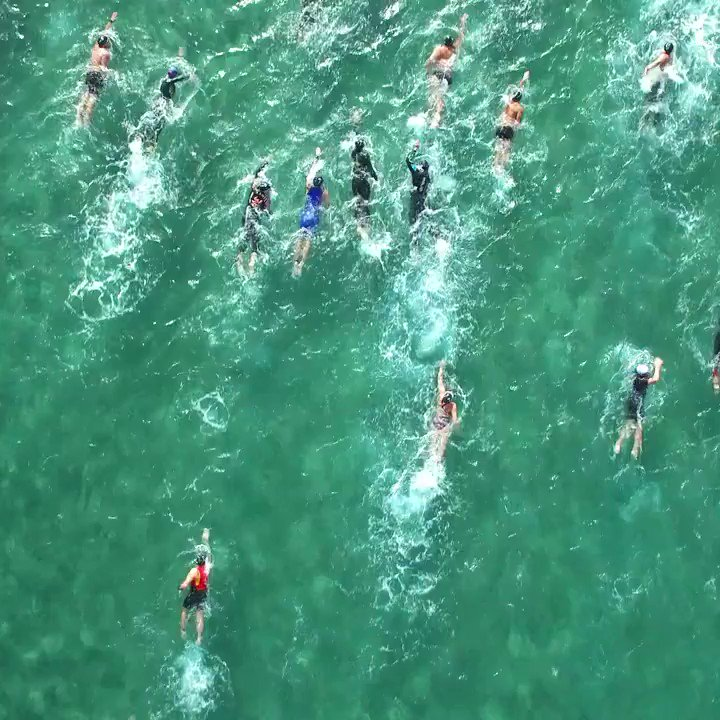people: (291, 156, 338, 276), (421, 28, 469, 131), (491, 73, 541, 166), (236, 157, 280, 262), (79, 12, 114, 141), (622, 358, 665, 462), (426, 364, 472, 445), (173, 553, 216, 637), (398, 148, 442, 229), (342, 134, 383, 217), (151, 64, 197, 115), (638, 38, 679, 91)
